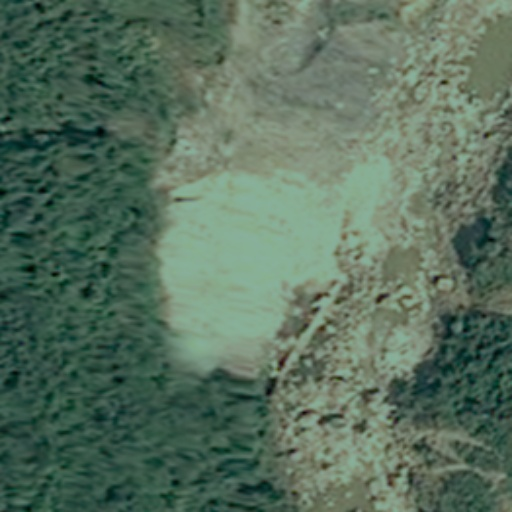landslide: (164, 118, 367, 359)
